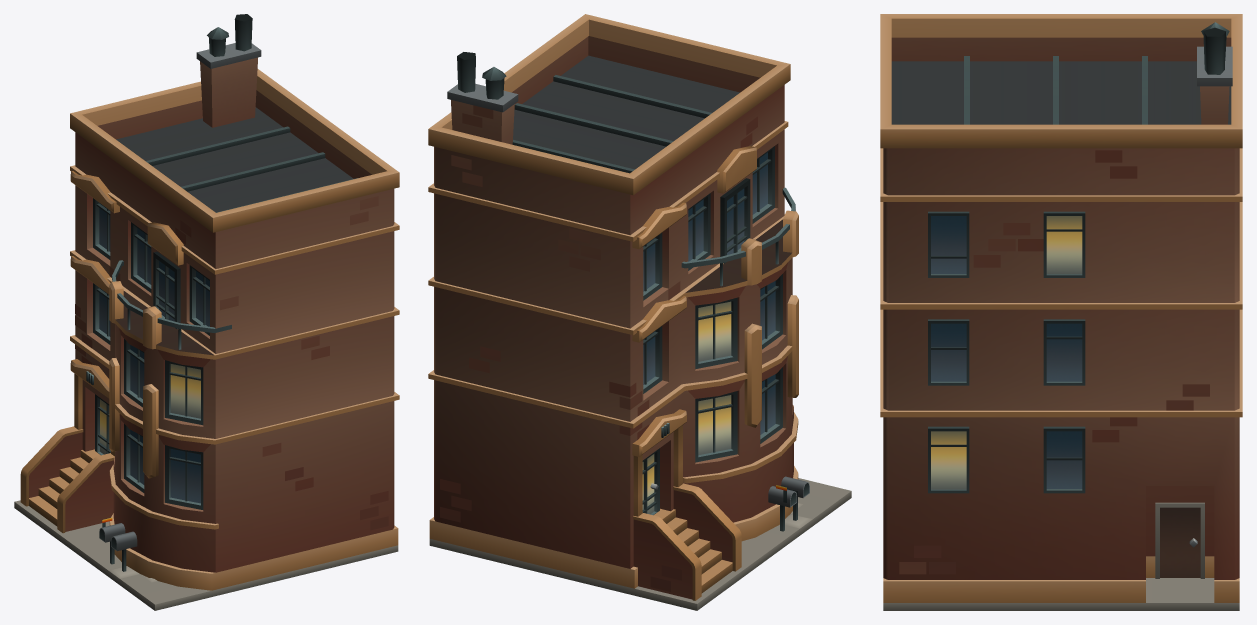
The model's file is Building_4C.fbx.
3 views of the same model, side by side, from view 1: azimuth 30°, elevation 25°; view 2: azimuth 150°, elevation 25°; view 3: azimuth 270°, elevation 25° (orthographic). The views are drawn at different scales.
Parts seen in each view (by area): view 1: Building_4C, Window_Lights_4C; view 2: Building_4C, Window_Lights_4C; view 3: Building_4C, Window_Lights_4C.
Boxes of the visible parts, box(x1,y1,x2,y2) form: Building_4C: box(14, 14, 399, 610); Window_Lights_4C: box(100, 364, 200, 454); Building_4C: box(428, 14, 851, 610); Window_Lights_4C: box(642, 301, 731, 514); Building_4C: box(880, 14, 1242, 610); Window_Lights_4C: box(931, 216, 1082, 489).
Bounding box in the file's own units: 12.05 × 20.93 × 12.2.
